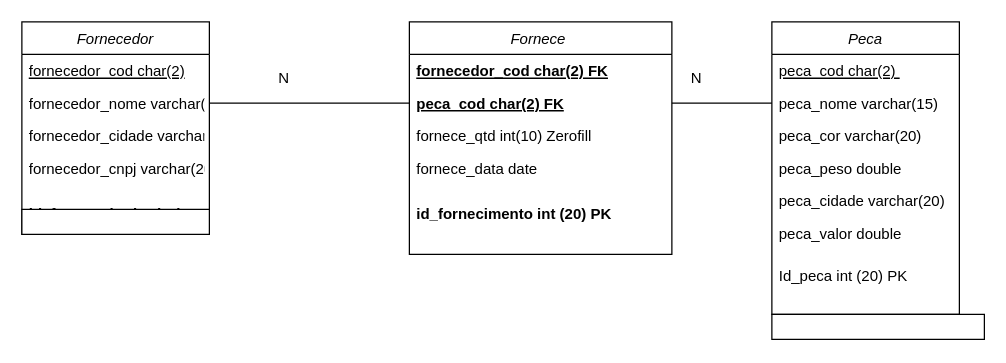
Some shapes in this 1006 by 363 pixel diagram are drawn without their labels. The shapes that lost their labels are listed below. From the top down, each one's centre as x and y in pixels, then its label:
At pixel 115 221: "id_fornecedor_cod PK (nn)".
At pixel 877 326: "peca_cod PK (nn)".
